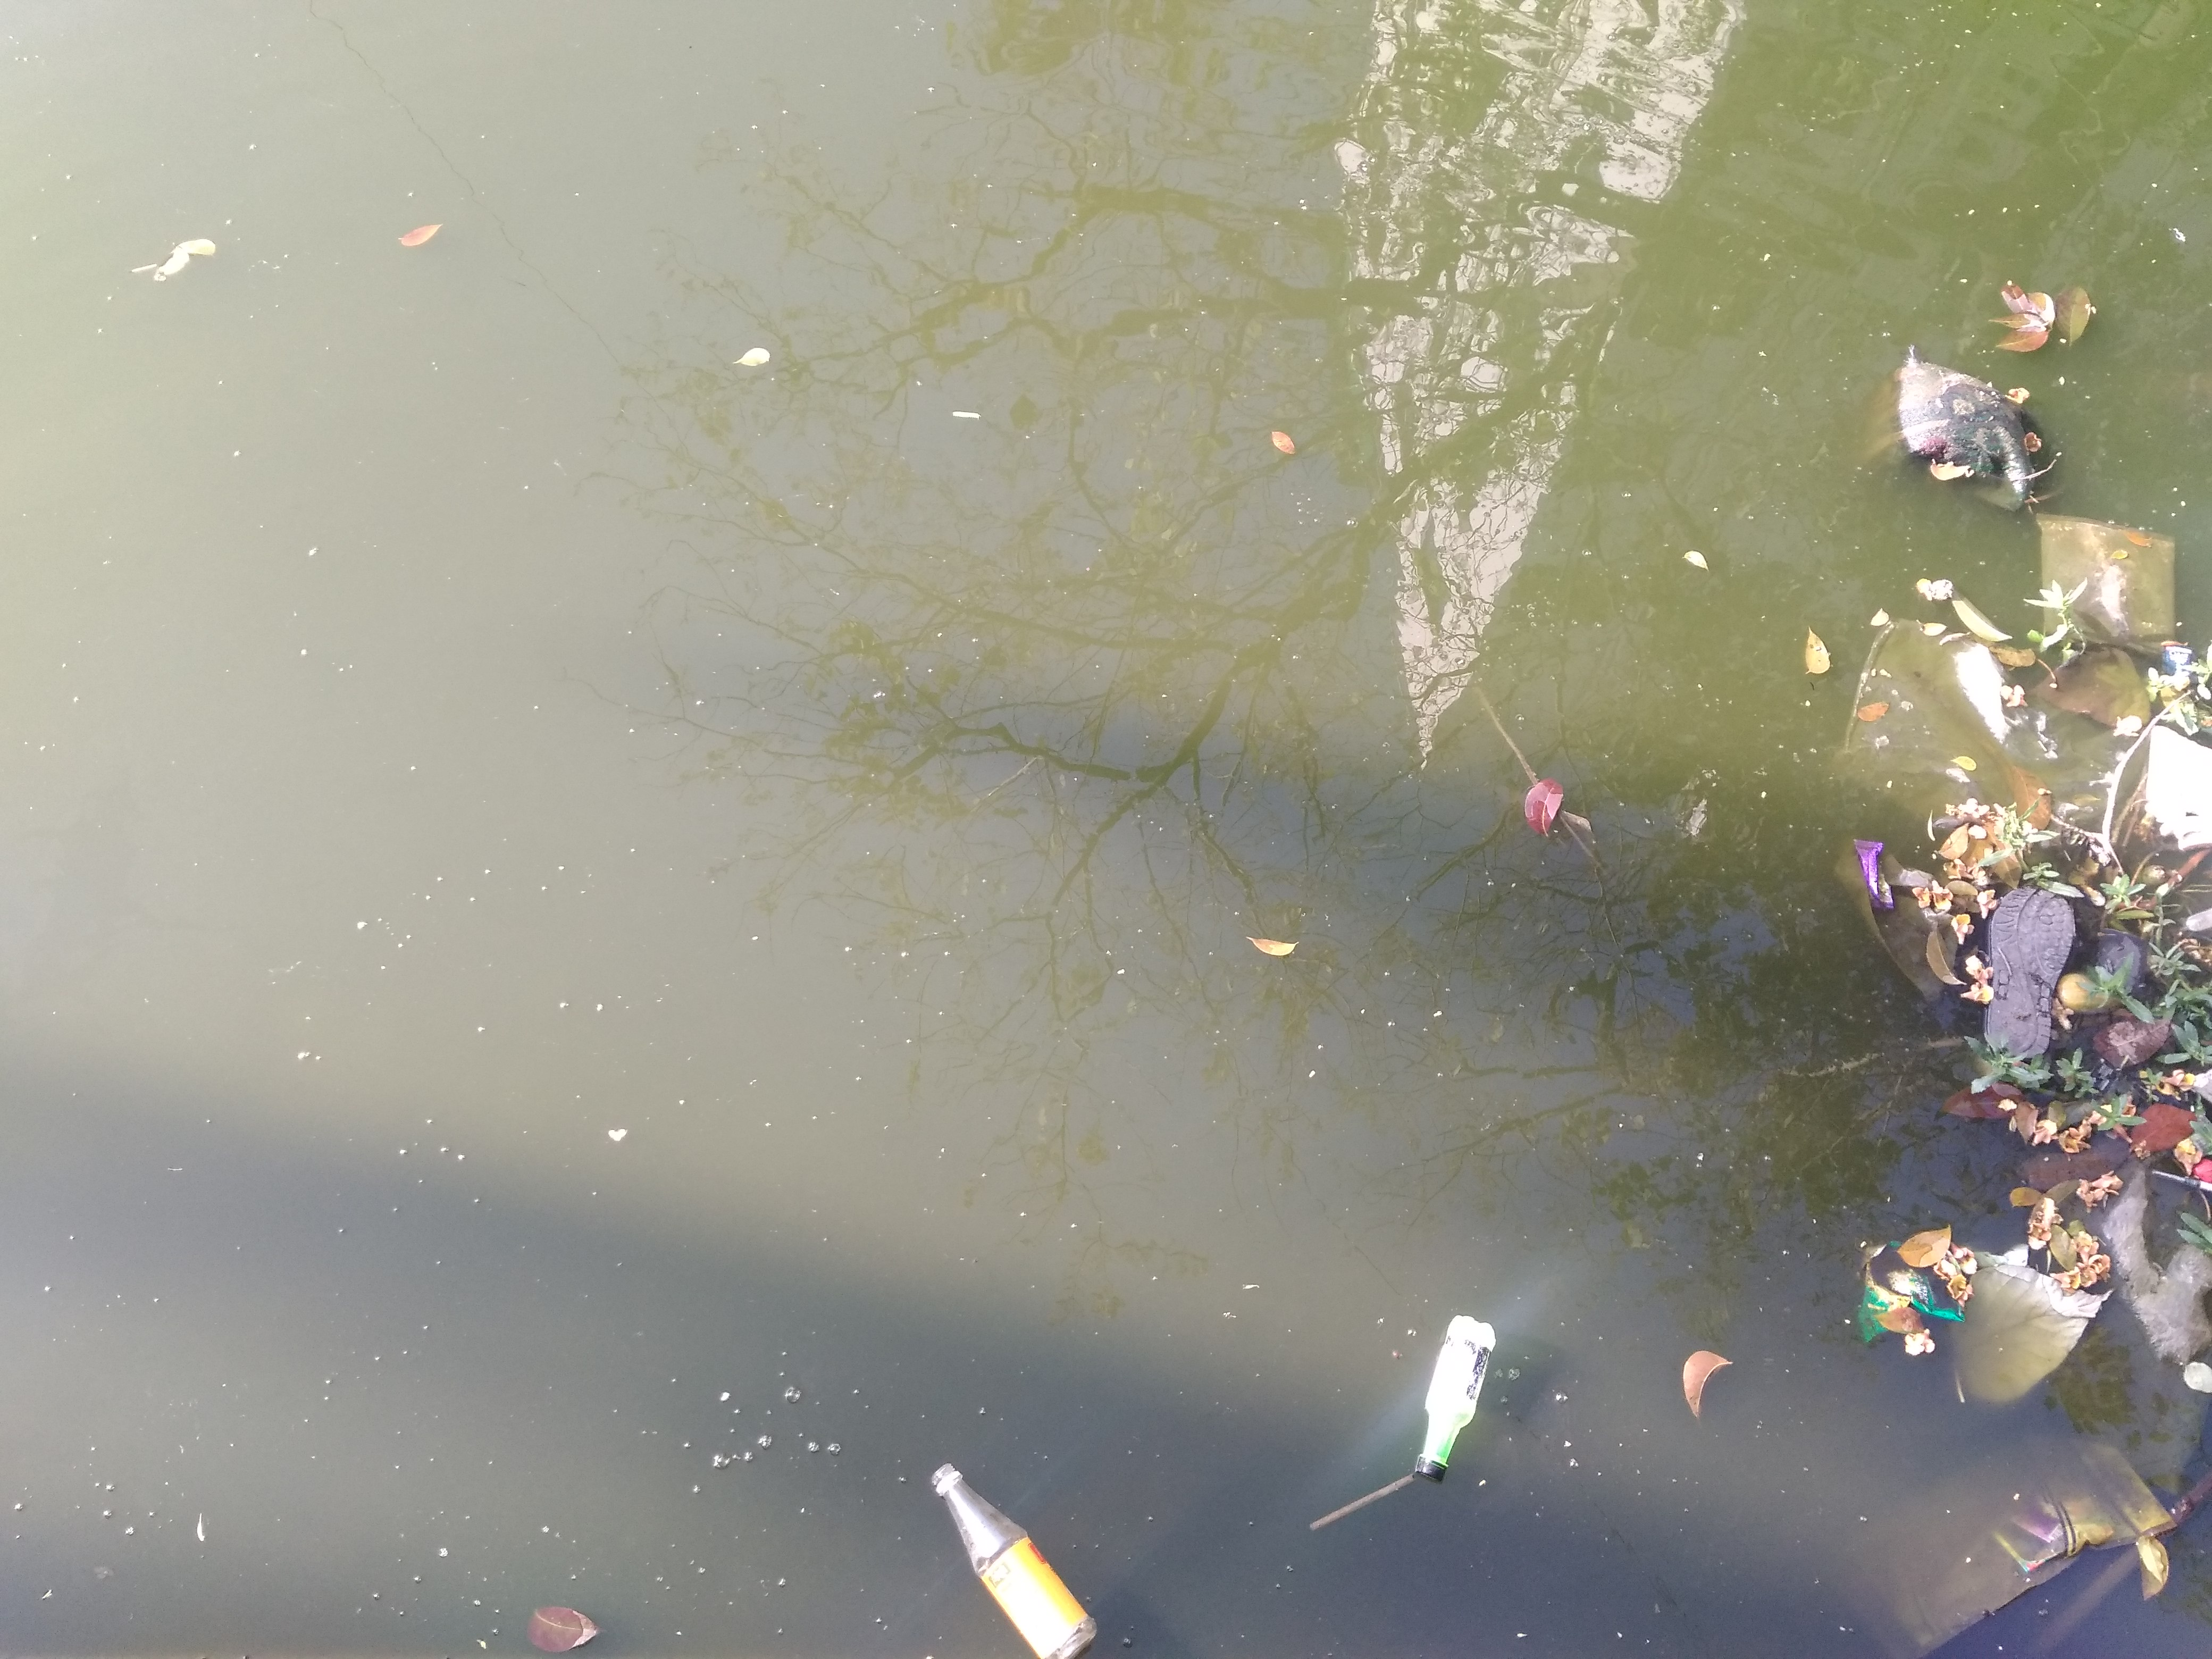Plastic Bottle: (934, 1460, 1096, 1657), (1411, 1314, 1494, 1481)
